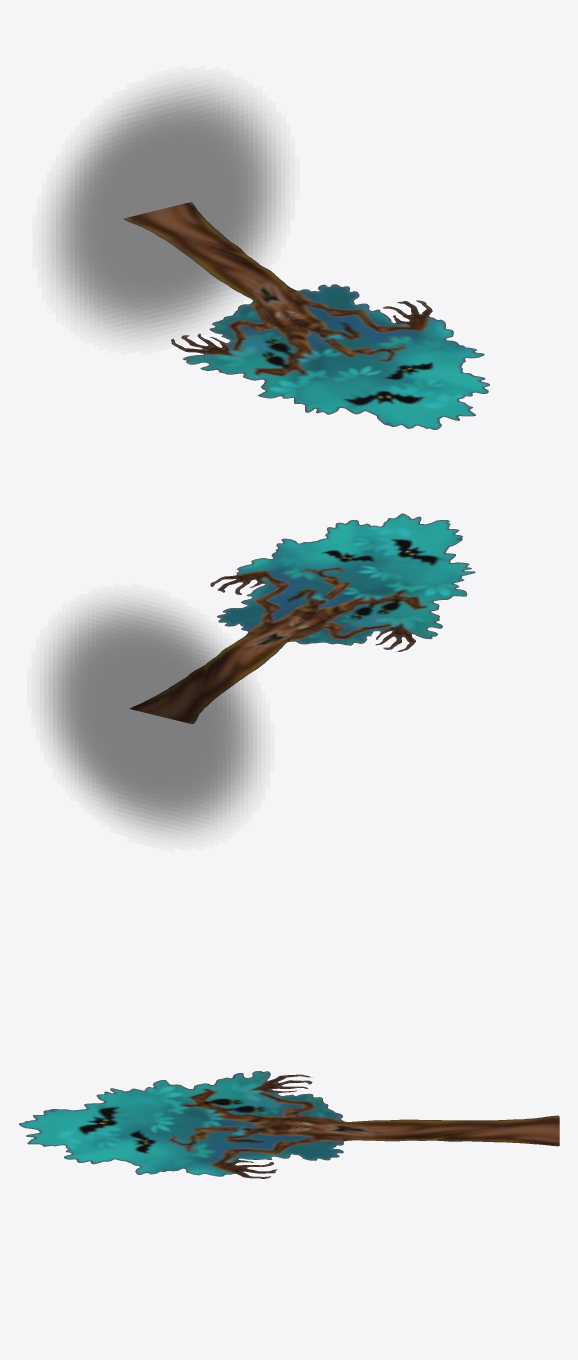
File: prop_tree_large_ul.glb
The picture shows the model from 3 angles, top to bottom: view 1: azimuth 30°, elevation 25°; view 2: azimuth 150°, elevation 25°; view 3: azimuth 270°, elevation 25°; orthographic projection. The views are drawn at different scales.
Parts seen in each view (by area): view 1: shadow_large_no_box_ul, prop_leaves_large_ul_2__billboard; view 2: shadow_large_no_box_ul, prop_leaves_large_ul_2__billboard; view 3: prop_leaves_large_ul_2__billboard.
Part boxes in pixels (x1,y1,x2,y2): shadow_large_no_box_ul: [51, 85, 280, 336]; prop_leaves_large_ul_2__billboard: [123, 202, 489, 429]; shadow_large_no_box_ul: [44, 602, 256, 834]; prop_leaves_large_ul_2__billboard: [130, 513, 475, 723]; prop_leaves_large_ul_2__billboard: [19, 1071, 559, 1178].
Bounding box in the file's own units: 16.89 × 16.89 × 29.25.
Materials: 2 (2 with a texture image).
